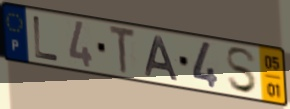4: (191, 40, 223, 91), (67, 18, 94, 71)
A: (144, 35, 181, 83)
L: (32, 14, 61, 64)
S: (224, 46, 259, 96)
T: (108, 24, 137, 76)
